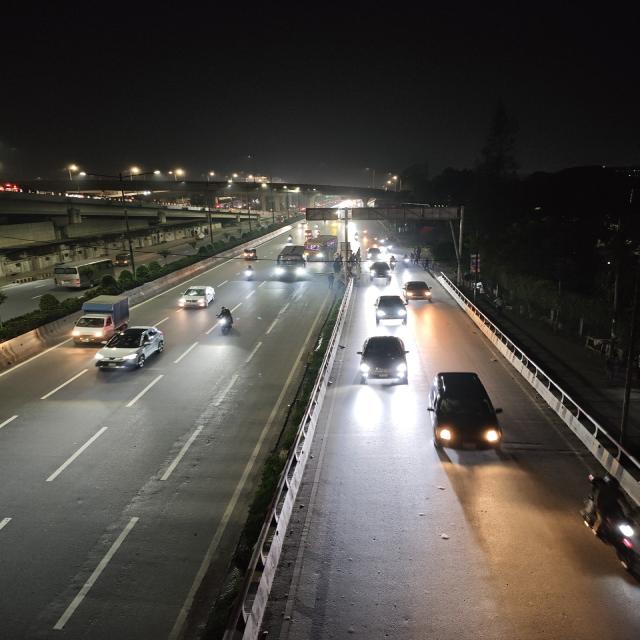bus: (44, 258, 118, 292), (304, 235, 340, 264), (277, 245, 303, 281)
car: (424, 368, 504, 464), (93, 323, 169, 377), (353, 332, 409, 388), (174, 282, 219, 314), (368, 292, 409, 326), (399, 279, 437, 307), (368, 260, 391, 283), (365, 246, 385, 261)
motorcycle: (578, 472, 640, 578), (211, 306, 239, 342), (239, 243, 261, 262), (240, 264, 257, 284), (387, 255, 397, 270), (402, 254, 412, 268), (284, 234, 296, 244)
pedestrian: (323, 271, 338, 292)
truck: (64, 292, 132, 342)
